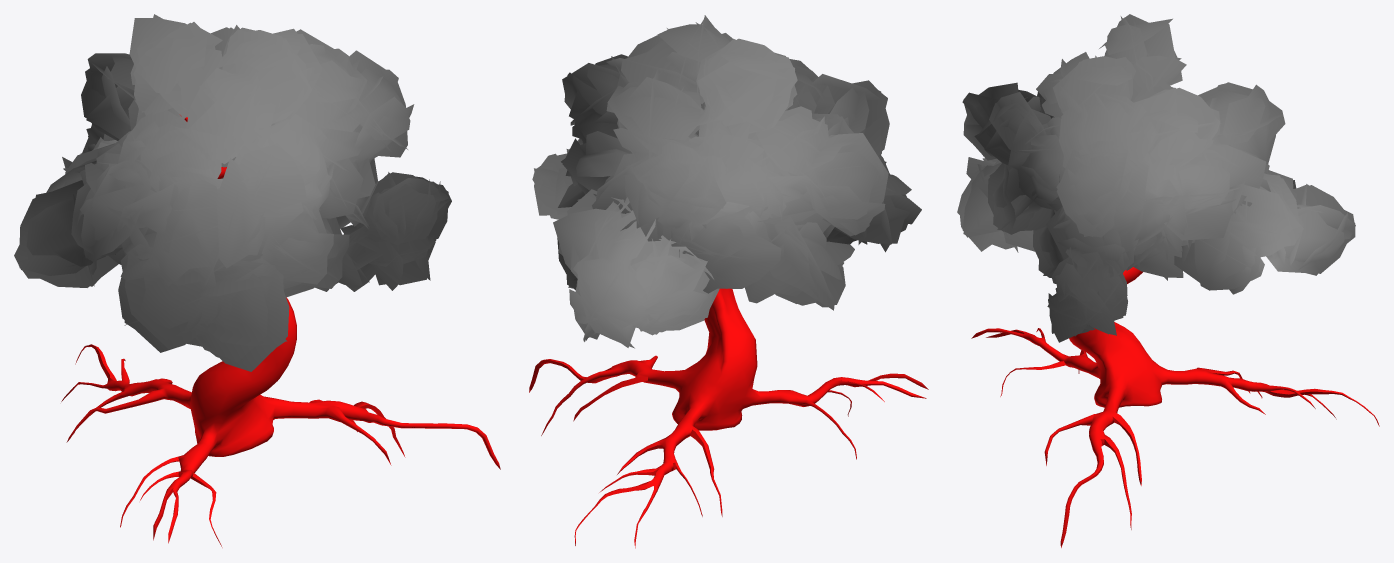
The model's file is SM_MapleTree_TypeA_v02.fbx.
3 renders of one model, left to right at view 1: azimuth 30°, elevation 25°; view 2: azimuth 150°, elevation 25°; view 3: azimuth 270°, elevation 25°, orthographic. The views are drawn at different scales.
Visible parts, largest first — view 1: SM_MarpleTree_Type01_Foliage, SM_MarpleTree_Type01_Trunk, Object004; view 2: SM_MarpleTree_Type01_Foliage, Object004, SM_MarpleTree_Type01_Trunk; view 3: SM_MarpleTree_Type01_Foliage, Object004, SM_MarpleTree_Type01_Trunk.
Boxes of the visible parts, x1,y1,x2,y2 form: SM_MarpleTree_Type01_Foliage: (14, 14, 451, 371); SM_MarpleTree_Type01_Trunk: (61, 115, 500, 547); Object004: (62, 124, 117, 170); SM_MarpleTree_Type01_Foliage: (532, 15, 921, 310); Object004: (553, 189, 719, 348); SM_MarpleTree_Type01_Trunk: (529, 288, 928, 548); SM_MarpleTree_Type01_Foliage: (957, 14, 1285, 342); Object004: (1174, 170, 1355, 294); SM_MarpleTree_Type01_Trunk: (971, 267, 1379, 547).
Size of the model in its own units: 925 by 1051 by 968.
